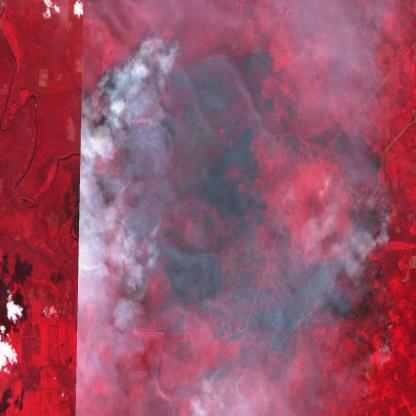fire: (79, 23, 191, 258), (198, 360, 228, 401)
